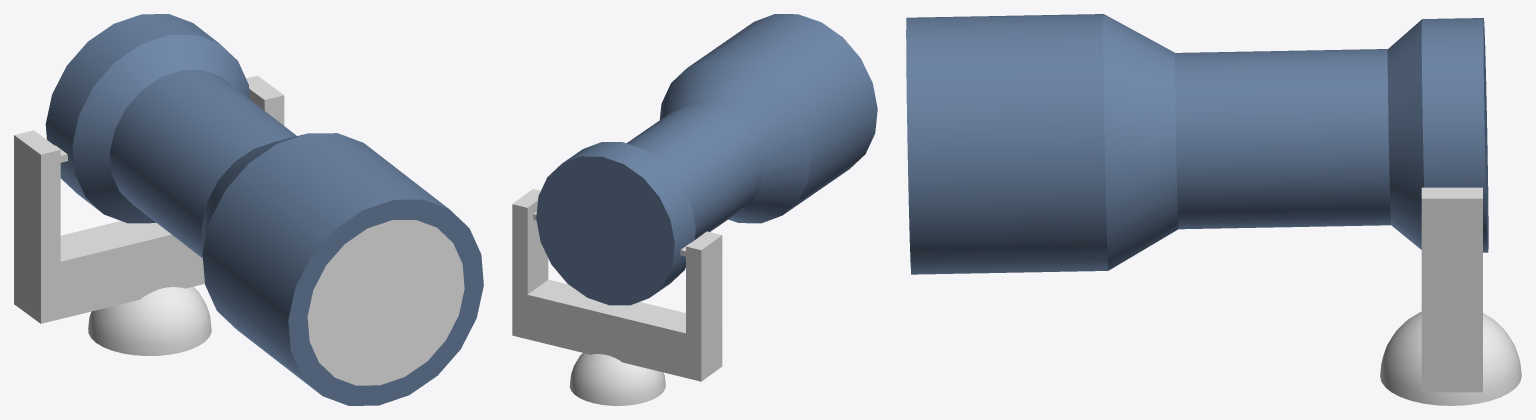
File: Lamp.fbx
3 renders of one model, left to right at view 1: azimuth 30°, elevation 25°; view 2: azimuth 150°, elevation 25°; view 3: azimuth 270°, elevation 25°, orthographic. The views are drawn at different scales.
Parts seen in each view (by area): view 1: spotlight_geo3.001, Cube.001, Lamp; view 2: spotlight_geo3.001, Cube.001, Lamp; view 3: spotlight_geo3.001, Cube.001, Lamp.
Part boxes in pixels (<box>): spotlight_geo3.001: <box>45,14,483,405</box>; Cube.001: <box>14,75,284,323</box>; Lamp: <box>88,286,211,355</box>; spotlight_geo3.001: <box>536,14,877,305</box>; Cube.001: <box>512,189,722,381</box>; Lamp: <box>569,353,665,405</box>; spotlight_geo3.001: <box>906,14,1488,274</box>; Cube.001: <box>1421,187,1482,392</box>; Lamp: <box>1380,311,1521,405</box>.
Size of the model in its own units: 267 by 321 by 511.
